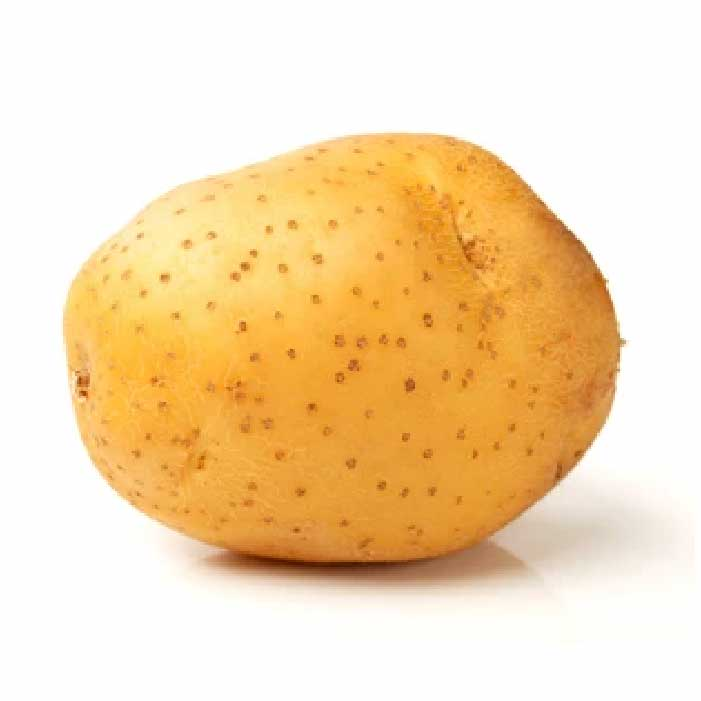Kartoffel: (64, 132, 622, 564)
